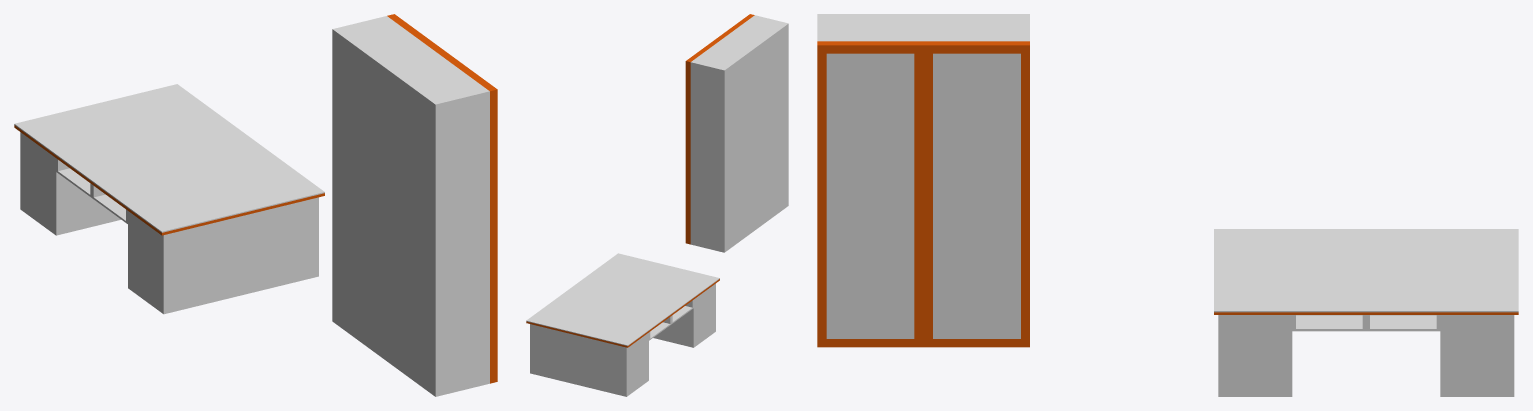
File: ScienceTable 1.fbx
3 views of the same model, side by side, from view 1: azimuth 30°, elevation 25°; view 2: azimuth 150°, elevation 25°; view 3: azimuth 270°, elevation 25° (orthographic). The views are drawn at different scales.
Visible parts, largest first — view 1: Body, Top, Table; view 2: Body, Top, Table; view 3: Window, Top, Body, Table.
Boxes of the visible parts, <box> form: Body: <box>332,14,497,396</box>; Top: <box>14,84,324,235</box>; Table: <box>20,132,318,314</box>; Body: <box>685,14,788,252</box>; Top: <box>526,253,719,347</box>; Table: <box>530,283,715,396</box>; Window: <box>826,53,1020,338</box>; Top: <box>1214,229,1518,314</box>; Body: <box>817,14,1029,347</box>; Table: <box>1218,315,1514,396</box>.
Bounding box in the file's own units: 105 × 205 × 379.
